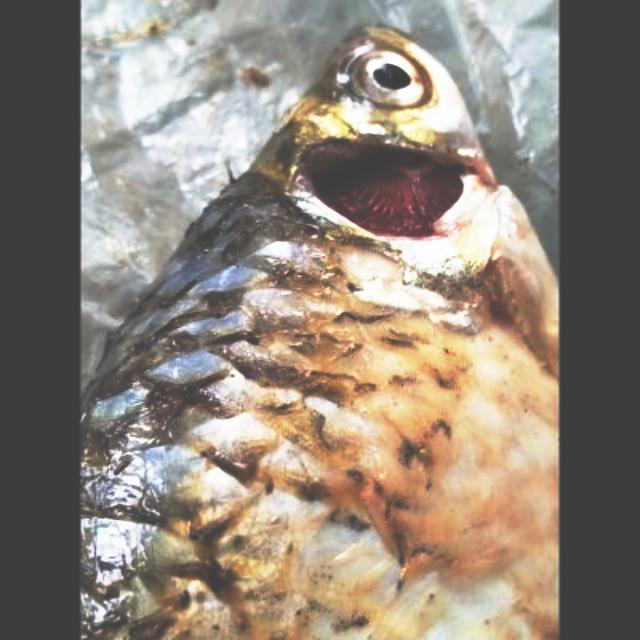Flavobacterium -Bacterial Gill Disease-: (76, 19, 561, 640), (80, 26, 557, 638)
